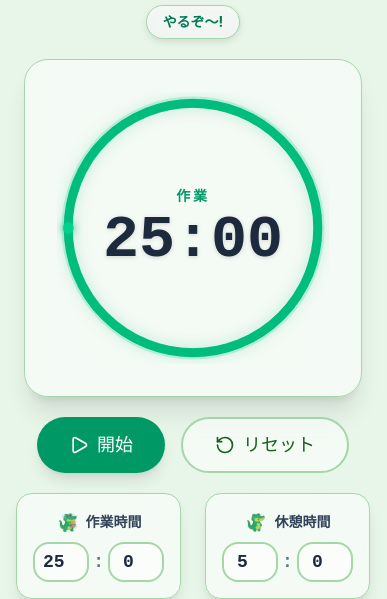
PomodoroTimer › 作業時間の分を設定できること
(page scrolled)
# 作業時間の分入力を変更
Replace the text in the number field named "作業時間（分）" with "30" at (61, 562), box [33,542,89,582]
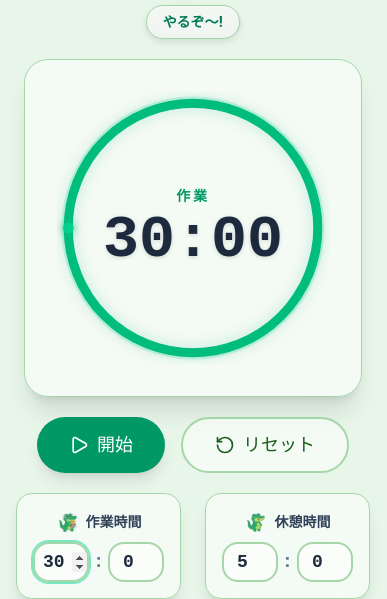
Now the text "30:00" is shown, box [103,210,283,270]
